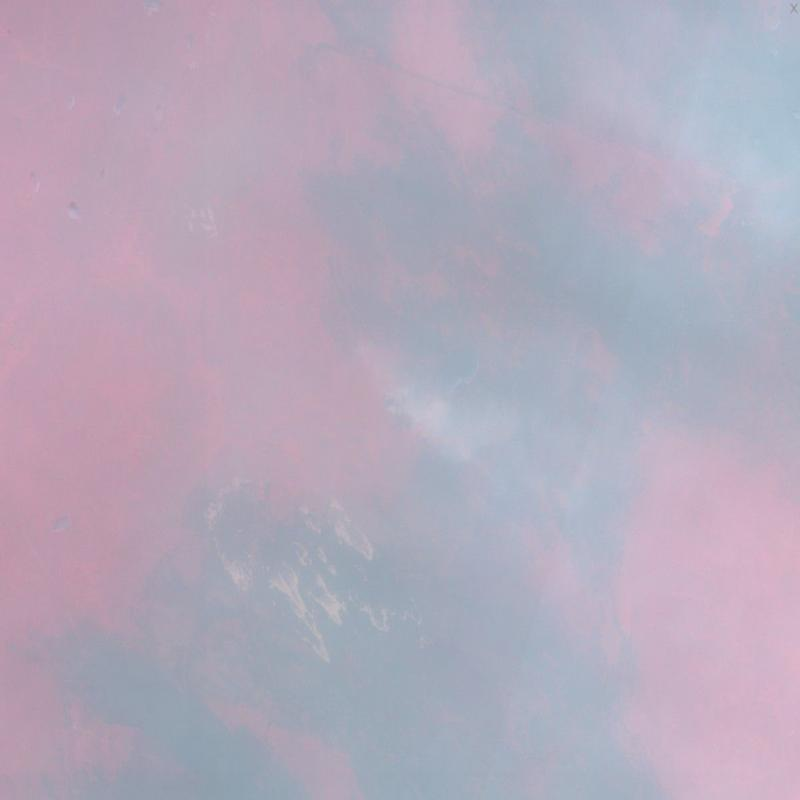fire: (199, 450, 422, 672), (328, 306, 426, 430), (182, 194, 231, 257)
